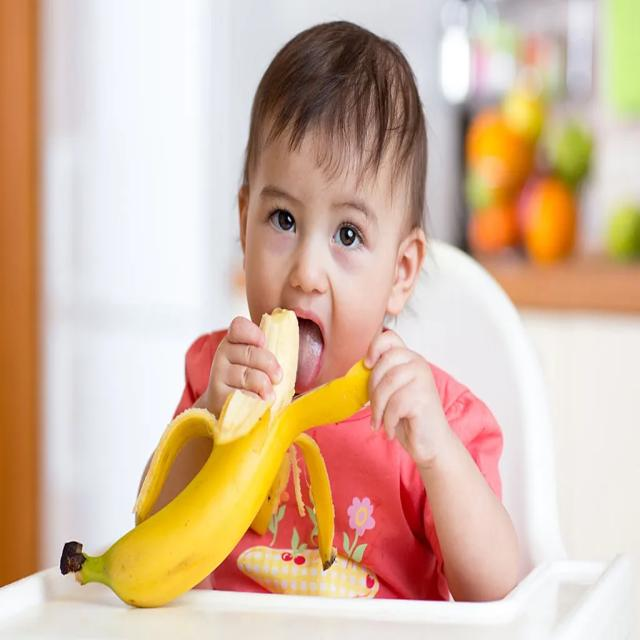banana_peel: (27, 296, 397, 634)
